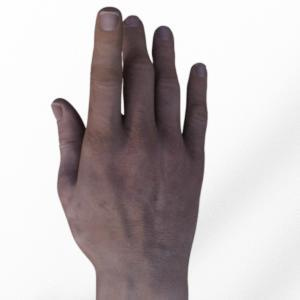paper: (52, 8, 207, 300)
